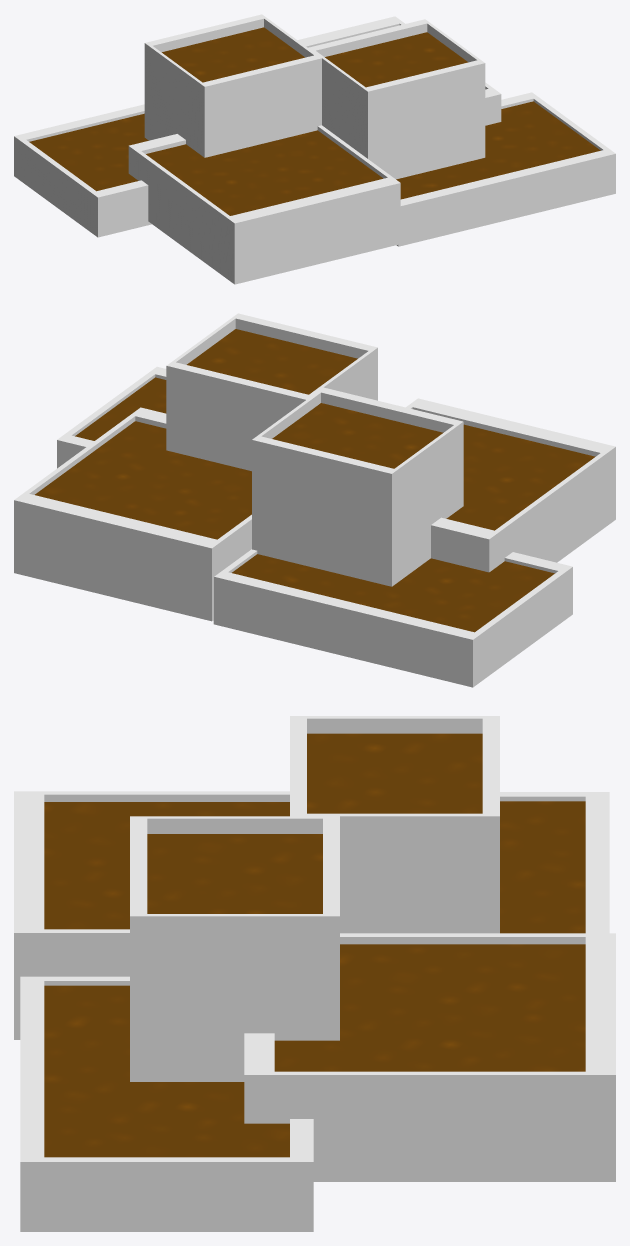
The model's file is big planters.fbx.
3 renders of one model, top to bottom at view 1: azimuth 30°, elevation 25°; view 2: azimuth 150°, elevation 25°; view 3: azimuth 270°, elevation 25°, orthographic. The views are drawn at different scales.
Parts seen in each view (by area): view 1: big planters; view 2: big planters; view 3: big planters.
Part boxes in pixels (<box>): big planters: <box>14,14,615,284</box>; big planters: <box>14,313,615,687</box>; big planters: <box>14,716,615,1231</box>.
Bounding box in the file's own units: 8.76 × 2.55 × 6.02.
